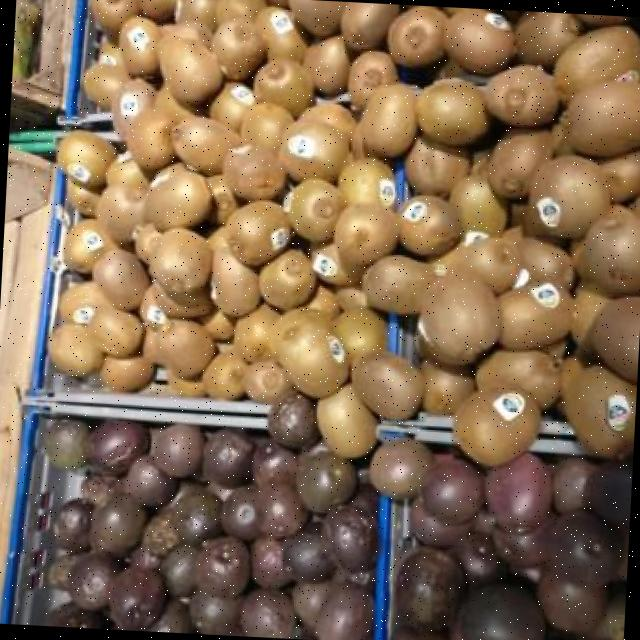kiwi: (269, 306, 349, 396), (421, 276, 499, 363), (563, 364, 637, 455), (530, 154, 610, 237), (455, 388, 541, 464), (555, 27, 640, 97), (569, 81, 640, 155), (432, 236, 522, 293), (499, 282, 575, 348), (351, 351, 425, 417), (478, 349, 560, 408), (417, 77, 489, 144), (446, 7, 515, 73), (584, 211, 640, 292), (317, 383, 377, 457), (485, 64, 560, 123), (146, 163, 213, 229), (362, 254, 435, 313), (161, 37, 224, 104), (590, 297, 640, 381), (488, 131, 553, 195), (333, 202, 400, 264), (279, 123, 349, 180), (228, 201, 291, 263), (362, 84, 417, 155), (151, 228, 211, 292), (172, 116, 240, 172), (399, 194, 461, 255), (406, 136, 469, 195), (285, 179, 345, 239), (92, 247, 151, 308), (223, 142, 286, 199), (255, 57, 315, 116), (57, 129, 117, 188), (158, 318, 216, 376), (451, 176, 508, 235), (388, 6, 444, 66), (212, 17, 266, 79), (516, 10, 579, 63), (211, 246, 261, 312), (260, 250, 316, 306), (127, 106, 175, 171), (96, 184, 146, 244), (513, 237, 571, 288), (256, 6, 308, 61), (64, 218, 116, 272), (303, 34, 351, 92), (49, 324, 104, 374), (348, 50, 398, 105), (88, 306, 144, 355), (340, 3, 399, 49), (422, 362, 474, 413), (240, 101, 294, 149), (339, 158, 392, 206), (114, 78, 157, 137), (235, 303, 280, 359), (334, 309, 386, 357), (120, 16, 161, 74), (203, 348, 248, 397), (59, 282, 111, 324), (211, 82, 255, 130), (153, 281, 213, 316), (300, 100, 357, 136), (243, 362, 293, 403), (84, 64, 131, 107), (289, 0, 346, 34), (312, 243, 360, 283), (100, 355, 155, 389), (602, 151, 640, 200), (573, 290, 608, 343), (106, 151, 150, 188), (207, 173, 238, 224), (155, 85, 193, 123), (91, 0, 140, 29), (177, 0, 221, 29), (159, 21, 212, 45), (133, 222, 163, 262), (67, 179, 100, 215), (306, 284, 340, 317), (560, 356, 585, 397), (217, 0, 264, 21), (141, 286, 167, 323), (142, 323, 164, 364), (205, 310, 235, 340), (138, 0, 177, 20), (169, 370, 206, 391), (339, 287, 368, 309), (98, 41, 121, 64), (543, 339, 566, 360), (630, 197, 640, 215)
